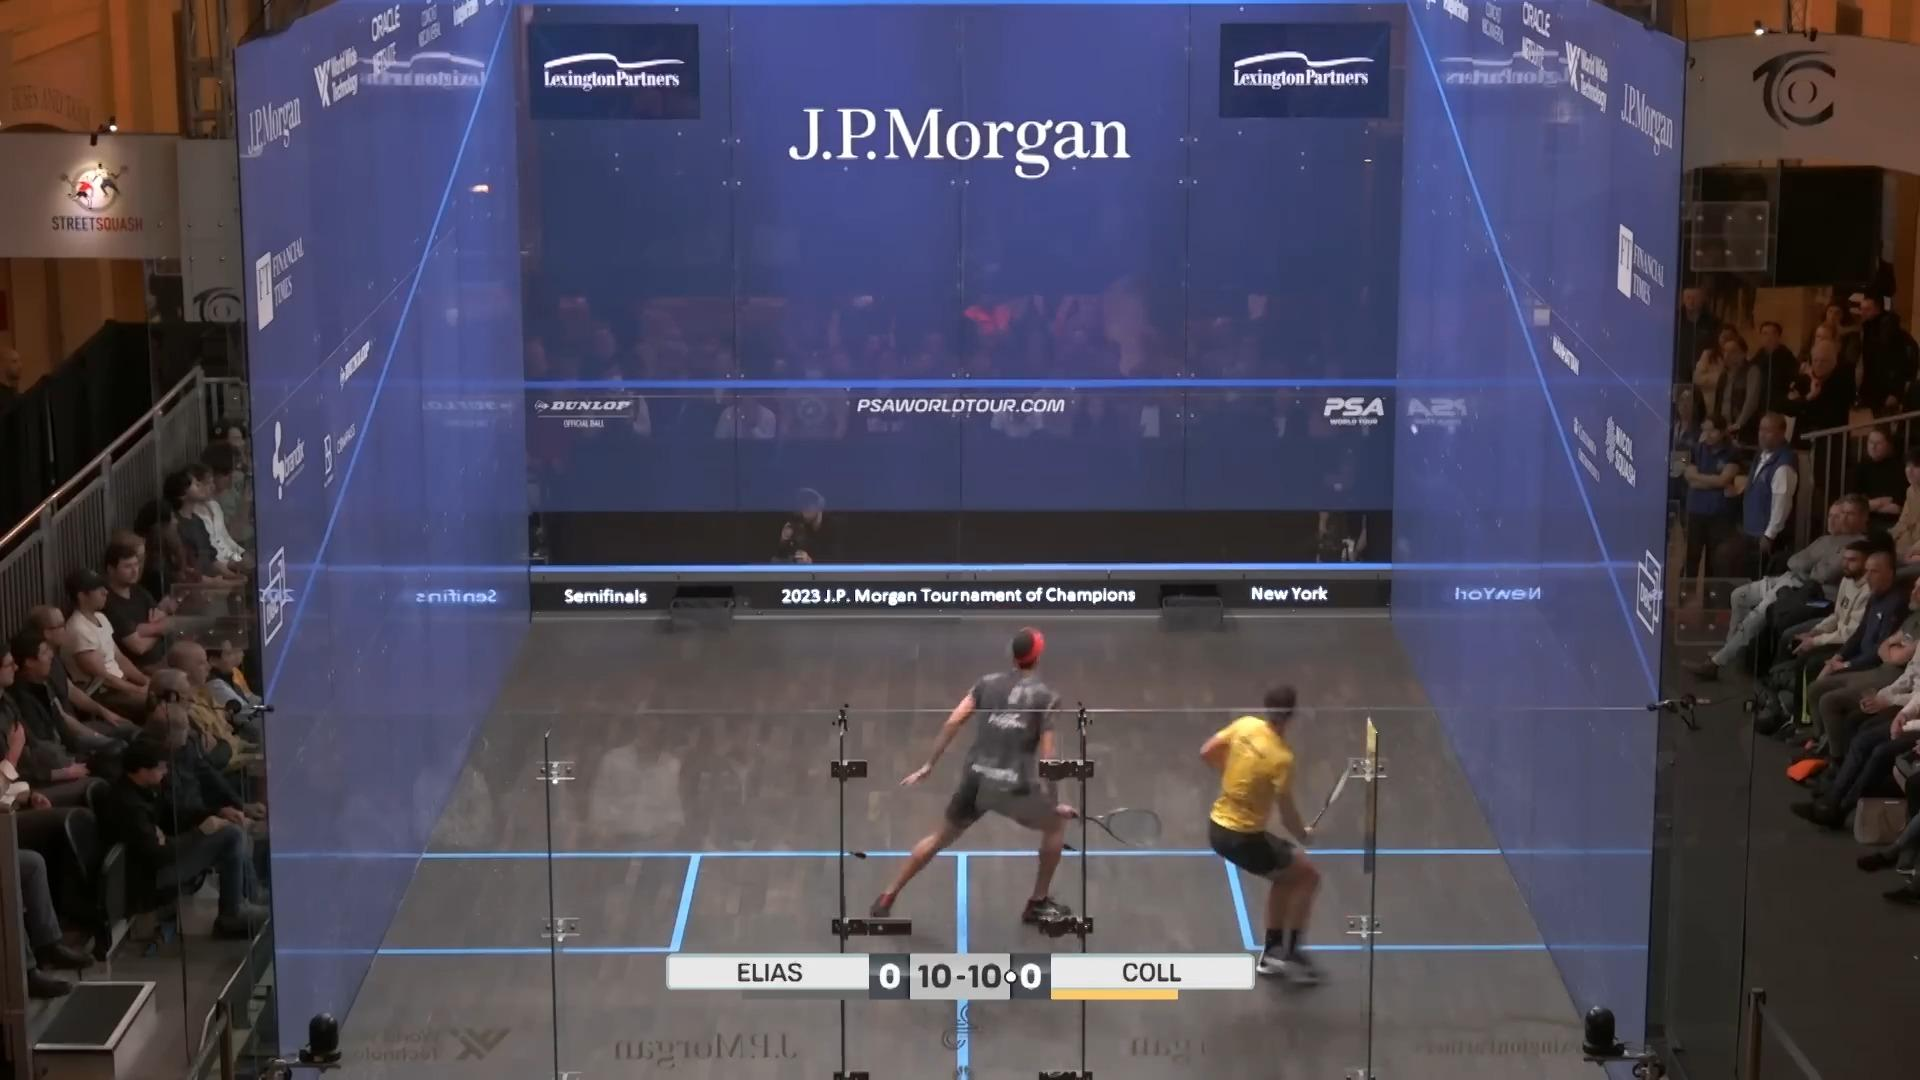Racket: (1059, 798, 1167, 858), (1292, 749, 1367, 832)
